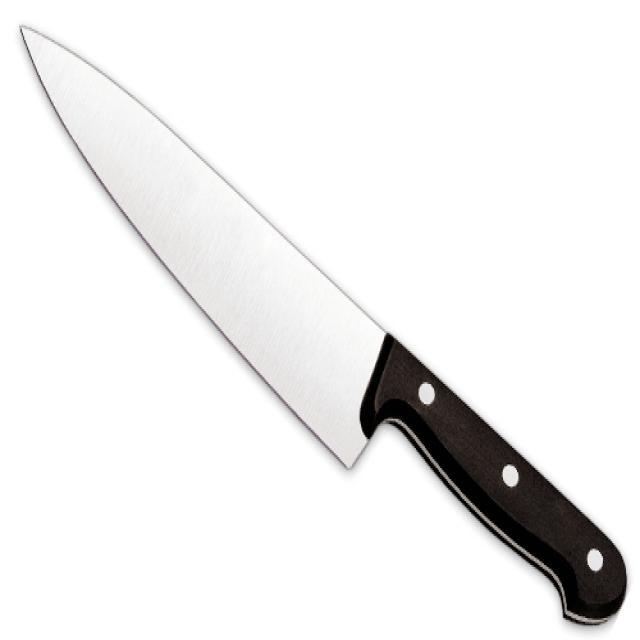knife: (6, 3, 640, 640)
